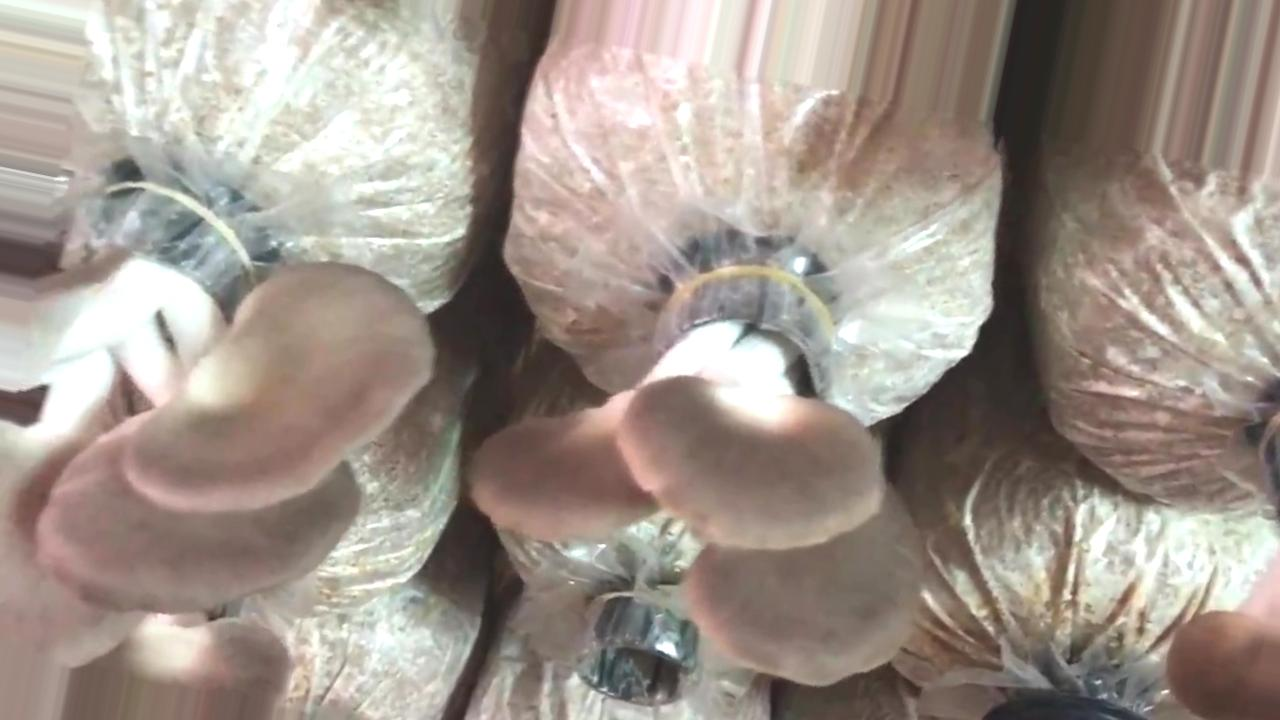nam: (1, 198, 429, 665), (470, 273, 924, 682), (1177, 396, 1280, 720), (65, 625, 296, 720)
